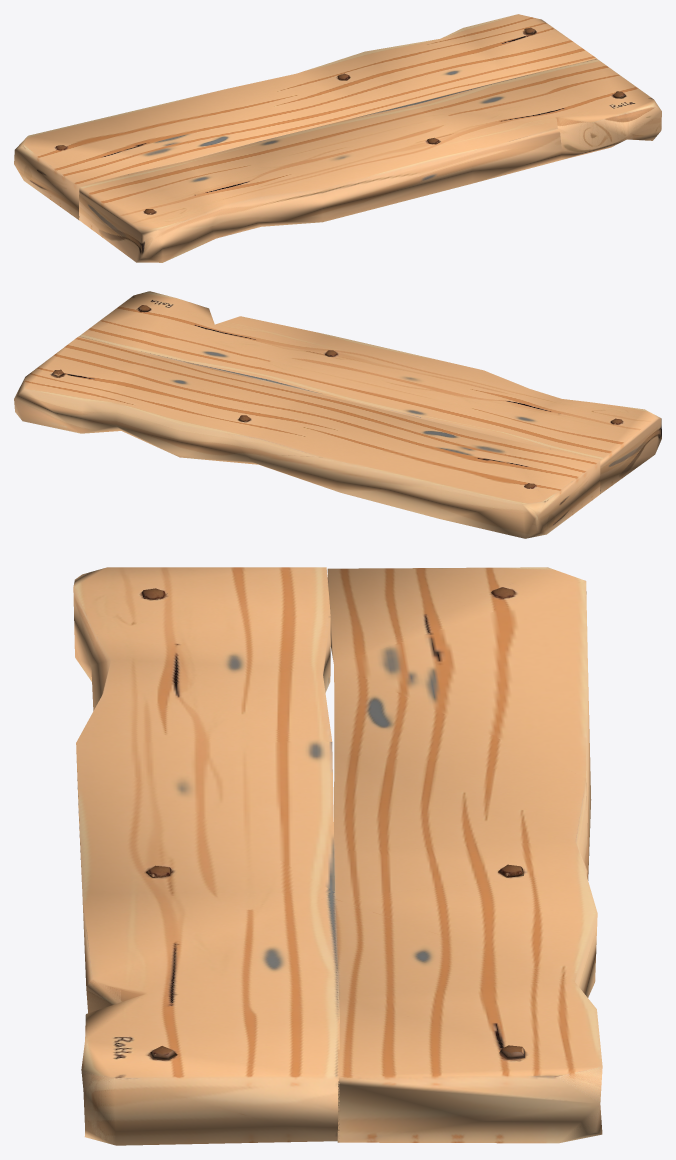
File: plank-split.glb
3 renders of one model, top to bottom at view 1: azimuth 30°, elevation 25°; view 2: azimuth 150°, elevation 25°; view 3: azimuth 270°, elevation 25°, orthographic. The views are drawn at different scales.
Visible parts, largest first — view 1: Existing Meshy board axis alignment; view 2: Existing Meshy board axis alignment; view 3: Existing Meshy board axis alignment.
Part boxes in pixels (left/top/right/bottom): Existing Meshy board axis alignment: left=14, top=14, right=661, bottom=262; Existing Meshy board axis alignment: left=14, top=291, right=661, bottom=538; Existing Meshy board axis alignment: left=73, top=567, right=602, bottom=1145.
Bounding box in the file's own units: 1 × 0.0699 × 0.4413.
1 material, 1 textured.
